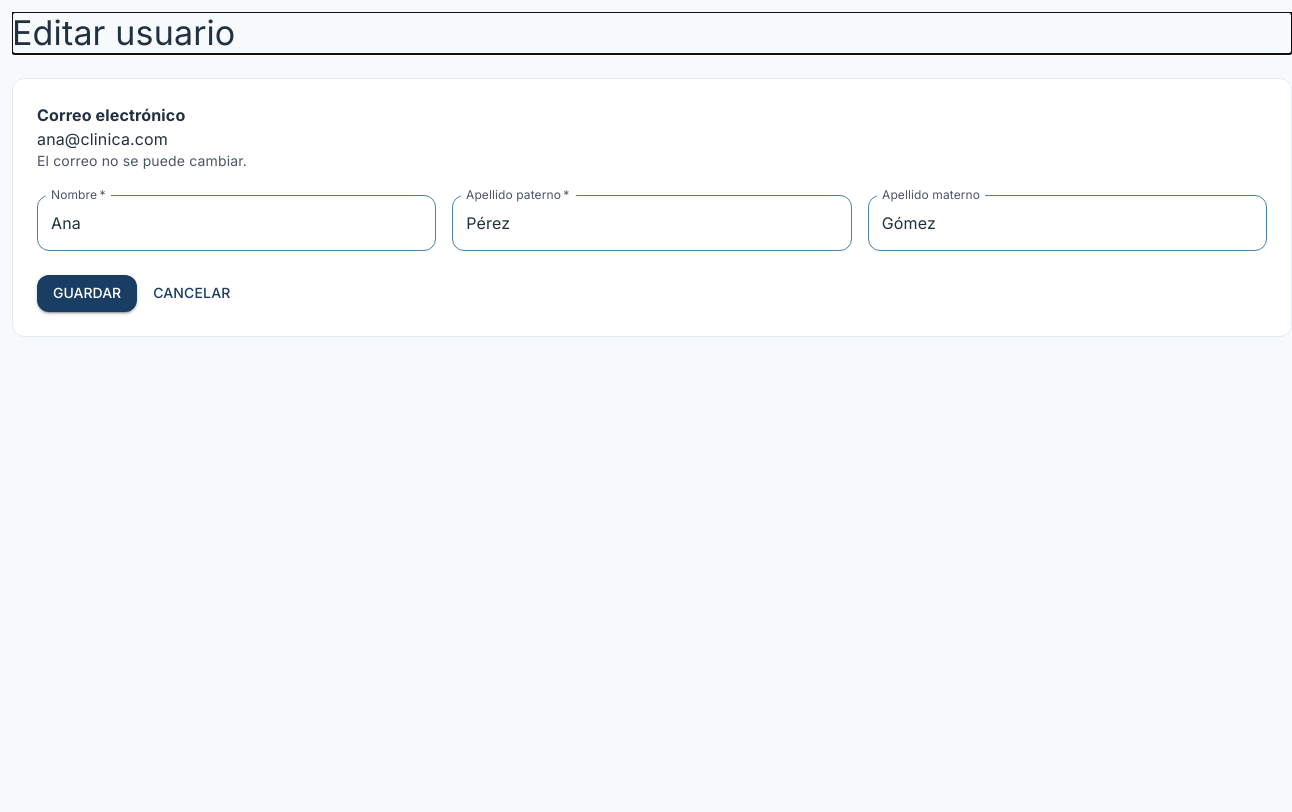
Test: UserEditPage: a user that cannot be edited › tells that the user has another status, when it was blocked before saving (US3-9)
Replace the text in the field labelled "Nombre *" with "Anita" at [237, 223], box top-left (37, 195), bottom-right (436, 251)
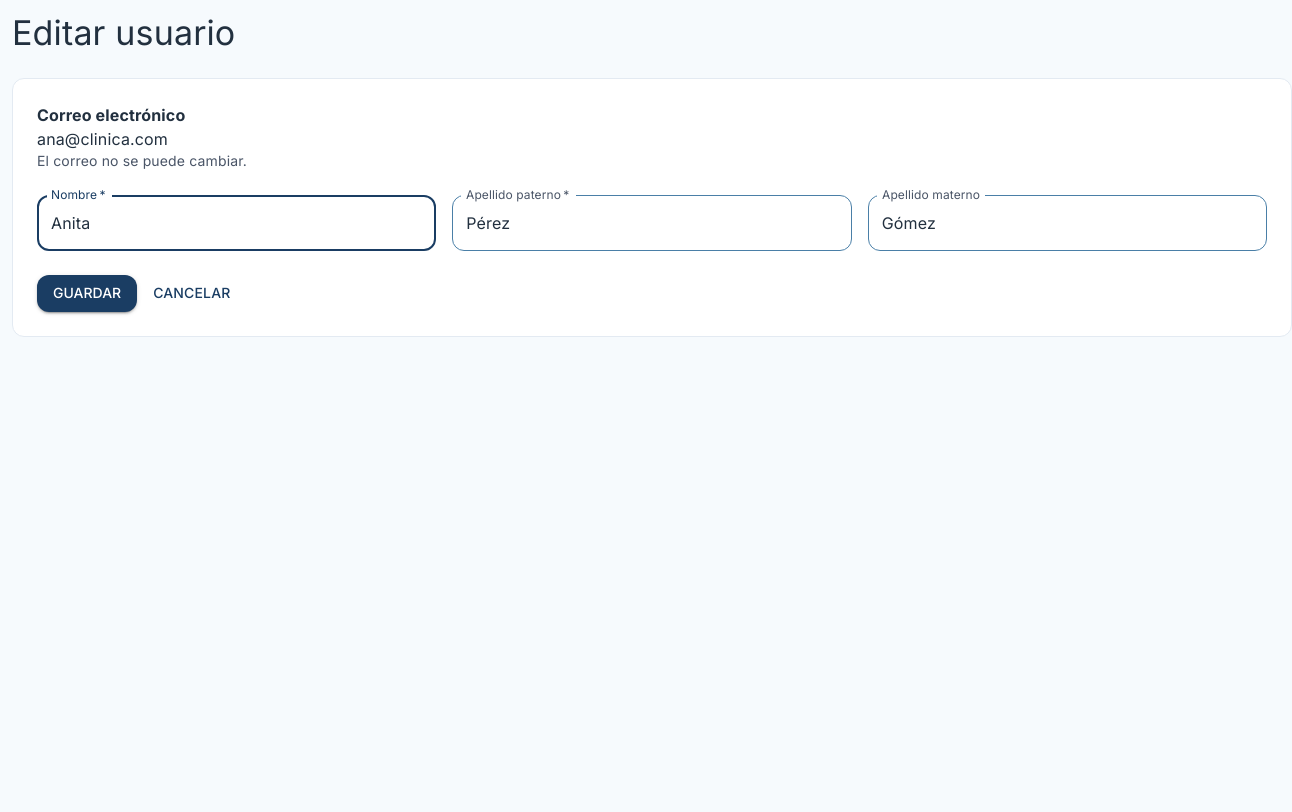
Click the button "Guardar" at [87, 293], box top-left (37, 275), bottom-right (137, 312)
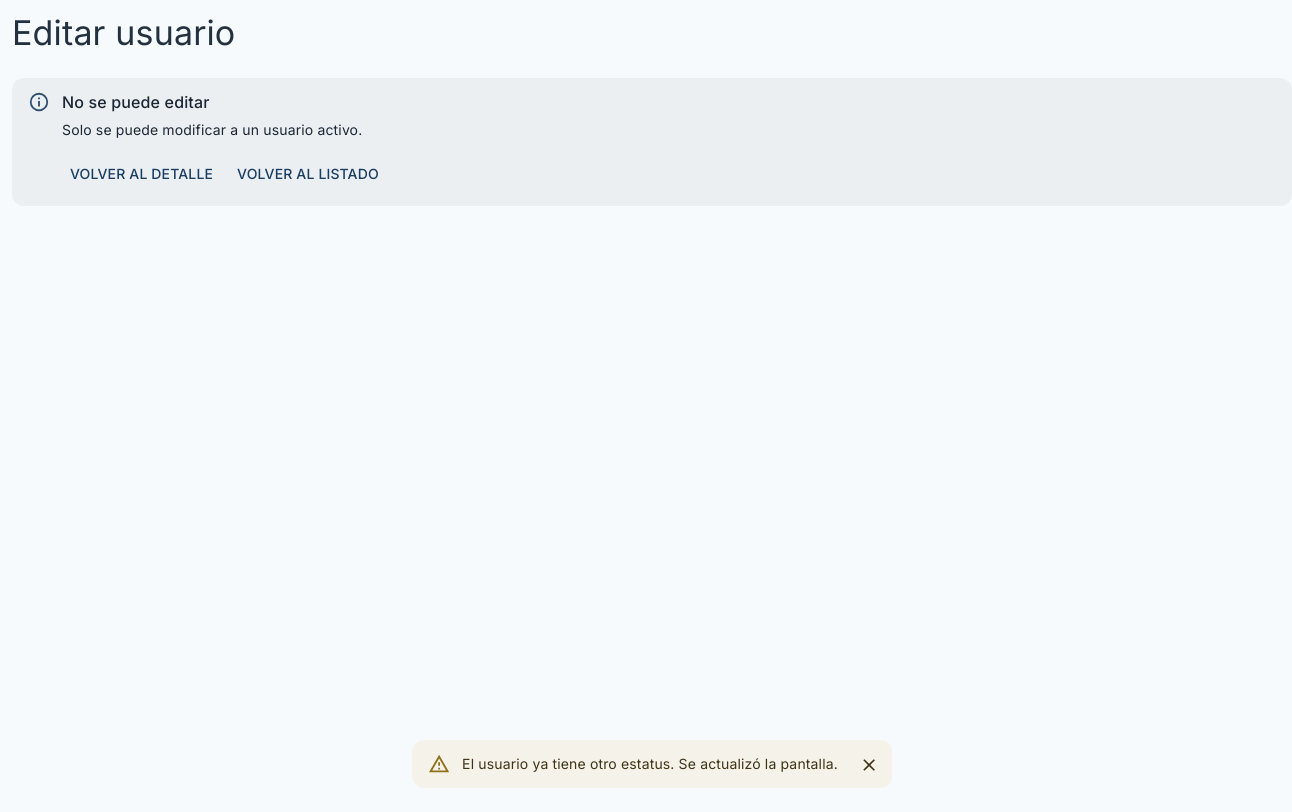
Now the text "El usuario ya tiene otro estatus. Se actualizó la pantalla." is shown, box top-left (462, 755), bottom-right (838, 772)
Now the text "No se puede editar" is shown, box top-left (62, 92), bottom-right (210, 112)
Now the field is gone
